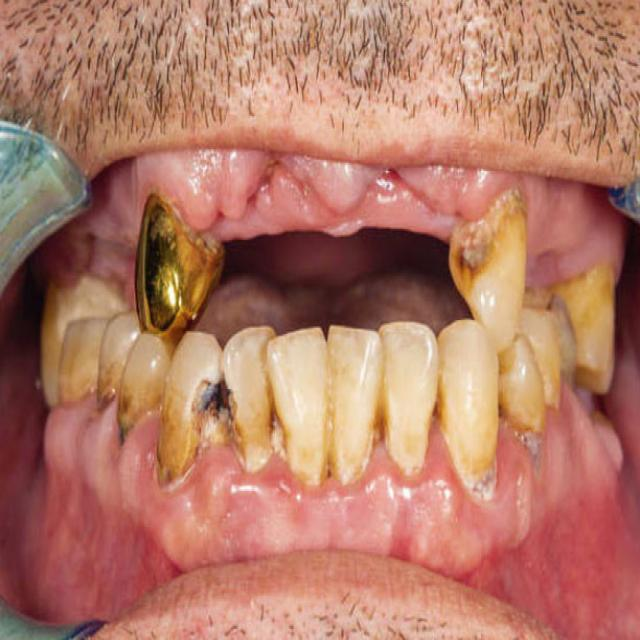caries: (185, 368, 247, 457), (449, 240, 494, 294), (515, 410, 548, 473)
